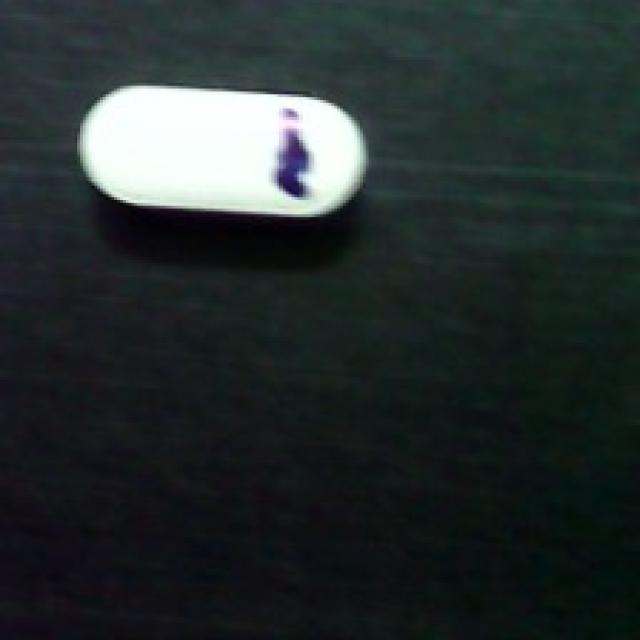defected: (74, 80, 371, 234)
